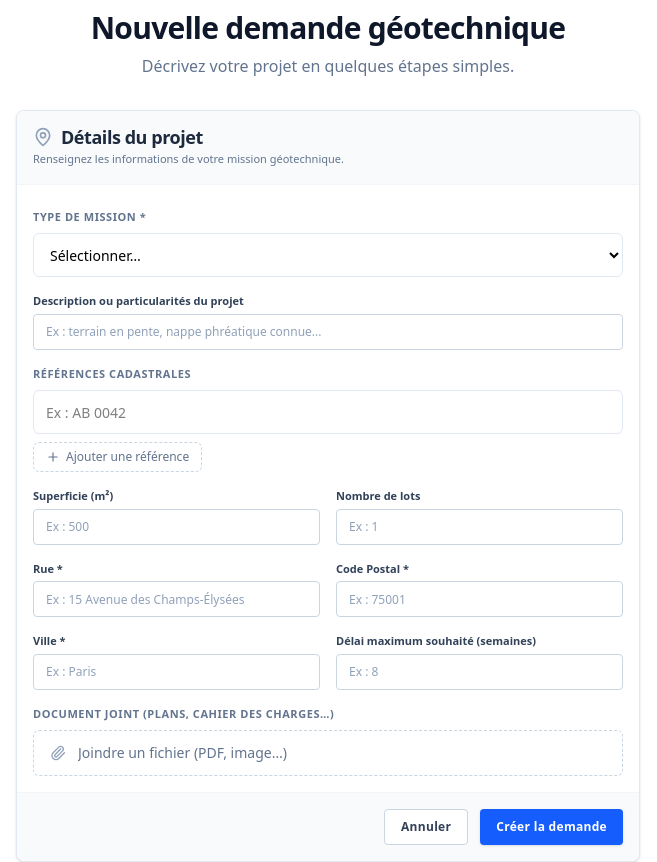
Scenario: NewRequest — soumission du formulaire › affiche un message d'erreur si la création échoue
The width and height of the screenshot is (657, 862).
Select "G0 — Étude préalable" in the dropdown at (328, 255), box [33,233,623,277]
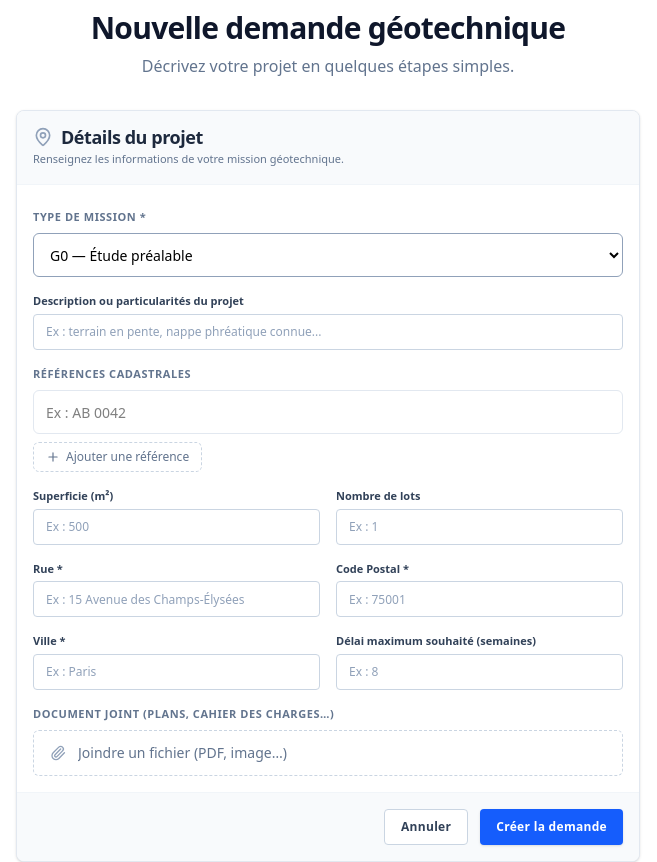
Type "10 Rue de la Paix" into the field with placeholder "Ex : 15 Avenue des Champs-Élysées" at (176, 599), box [33,581,320,617]
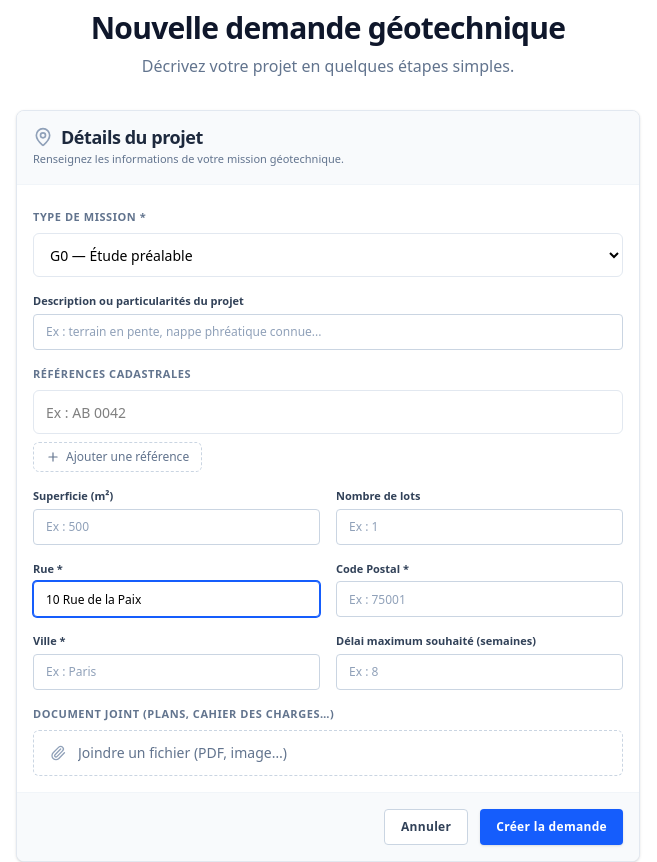
Type "75001" into the field with placeholder "Ex : 75001" at (480, 599), box [336,581,623,617]
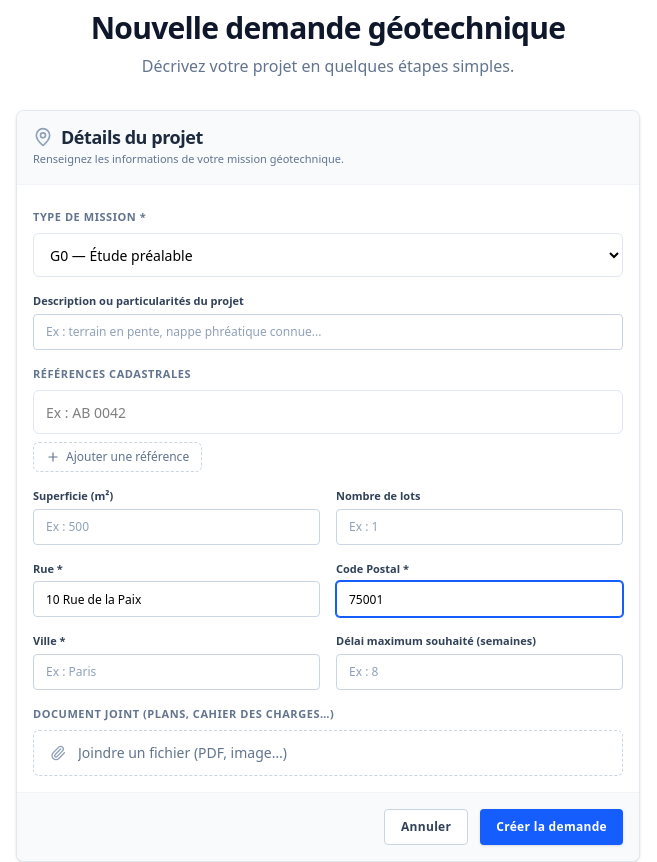
Type "Paris" into the field with placeholder "Ex : Paris" at (176, 672), box [33,654,320,690]
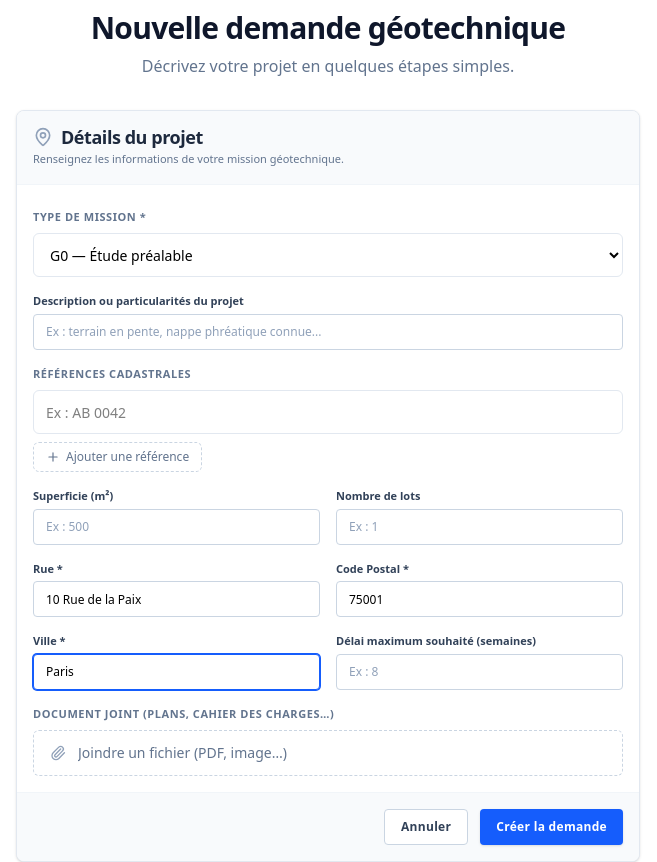
Click the button "Créer la demande" at (552, 827), box [480,809,623,845]
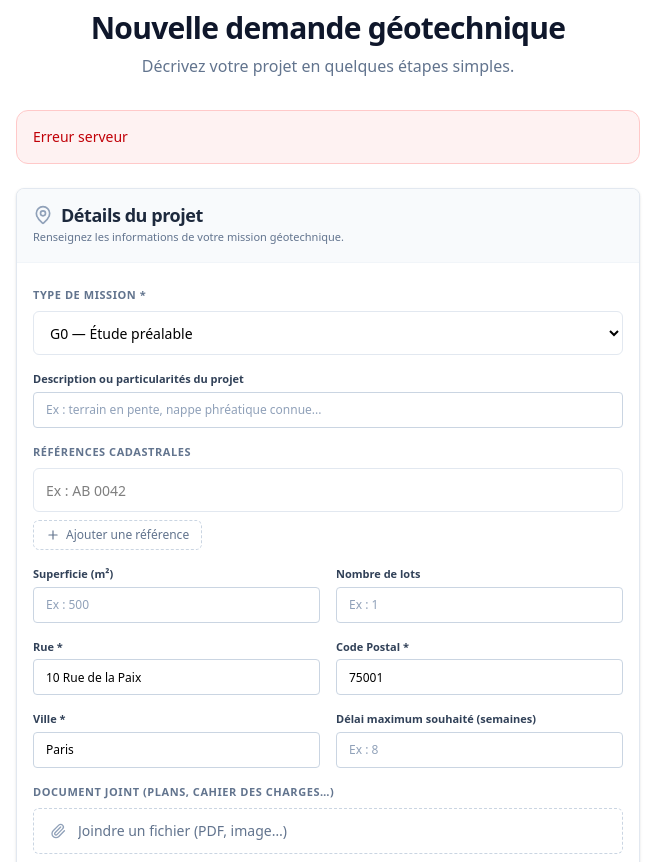
Expected: the text "Erreur serveur" is shown, [16,110,640,164]
